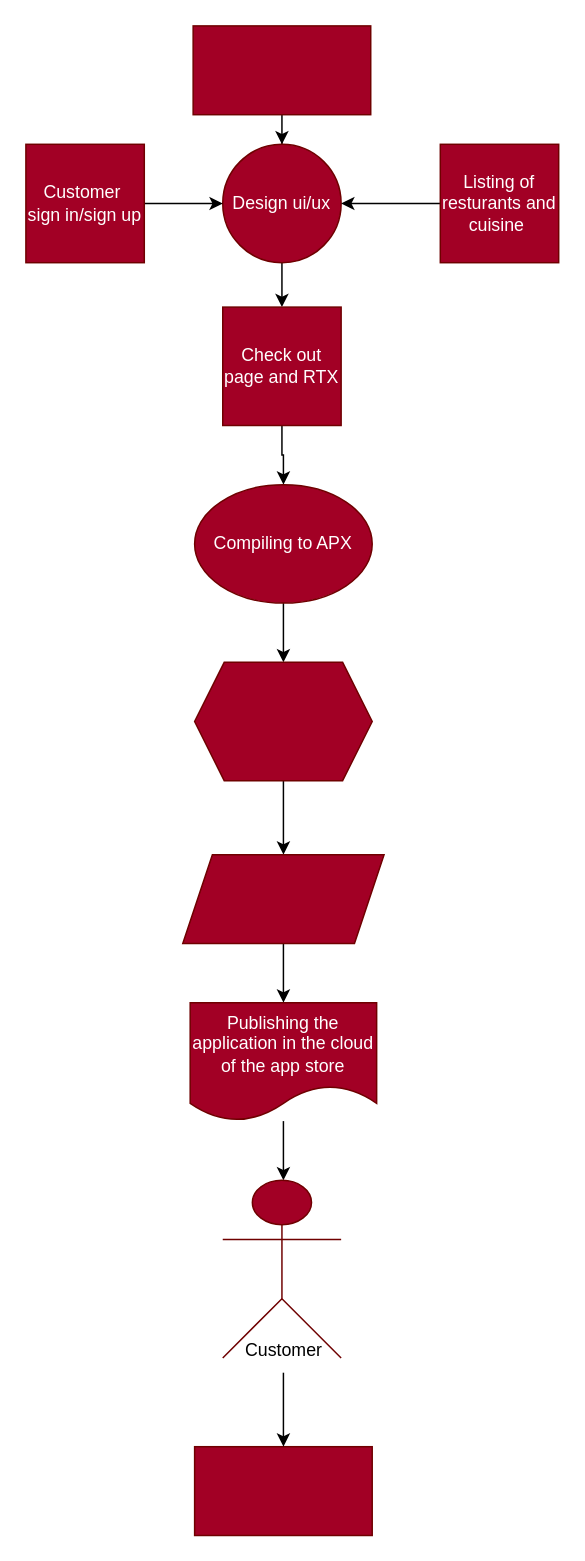
Some shapes in this 585 by 1561 pixel diagram are drawn without their labels. Each missing label, with the centre of its shape:
KKR: (281,69)
No bugs found: (282,721)
No feedback is received: (282,1490)
Writing permission deployment: (282,898)
